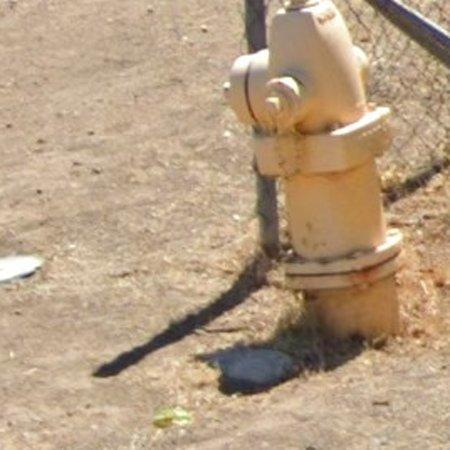a fire hydrant: (228, 0, 403, 338)
